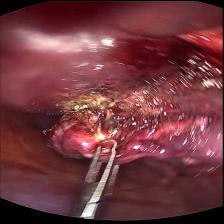Grasper: (61, 133, 128, 212)
